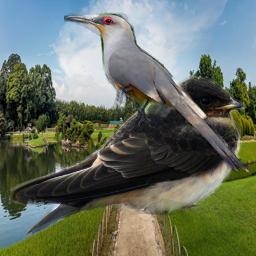Cuckoo: (64, 12, 251, 177)
Swallow: (10, 76, 246, 237)
